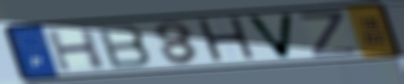8: (152, 20, 202, 66)
B: (94, 23, 155, 71)
H: (194, 15, 261, 66), (43, 26, 108, 73)
V: (243, 12, 296, 61)
Z: (297, 10, 361, 59)
